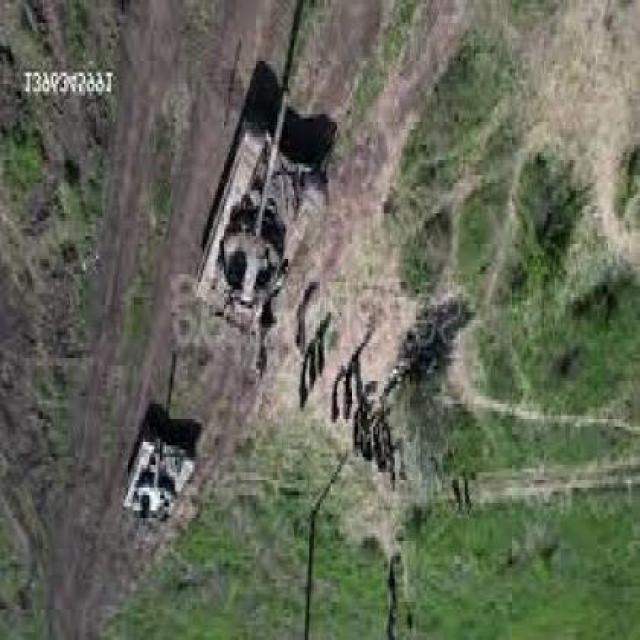tank: (194, 86, 330, 330), (122, 418, 196, 527)
